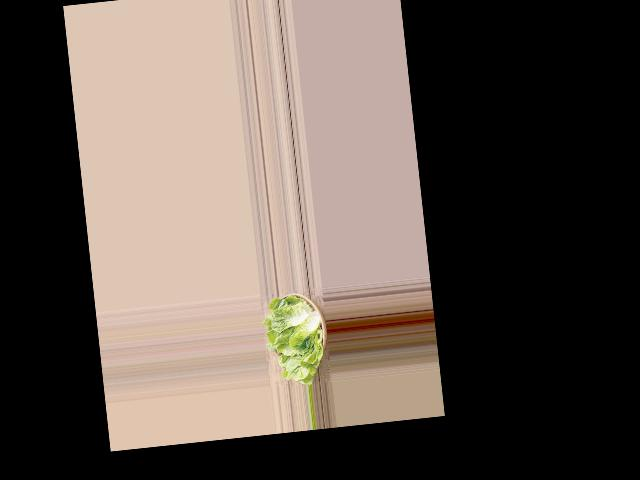lettuce: (262, 286, 331, 387)
